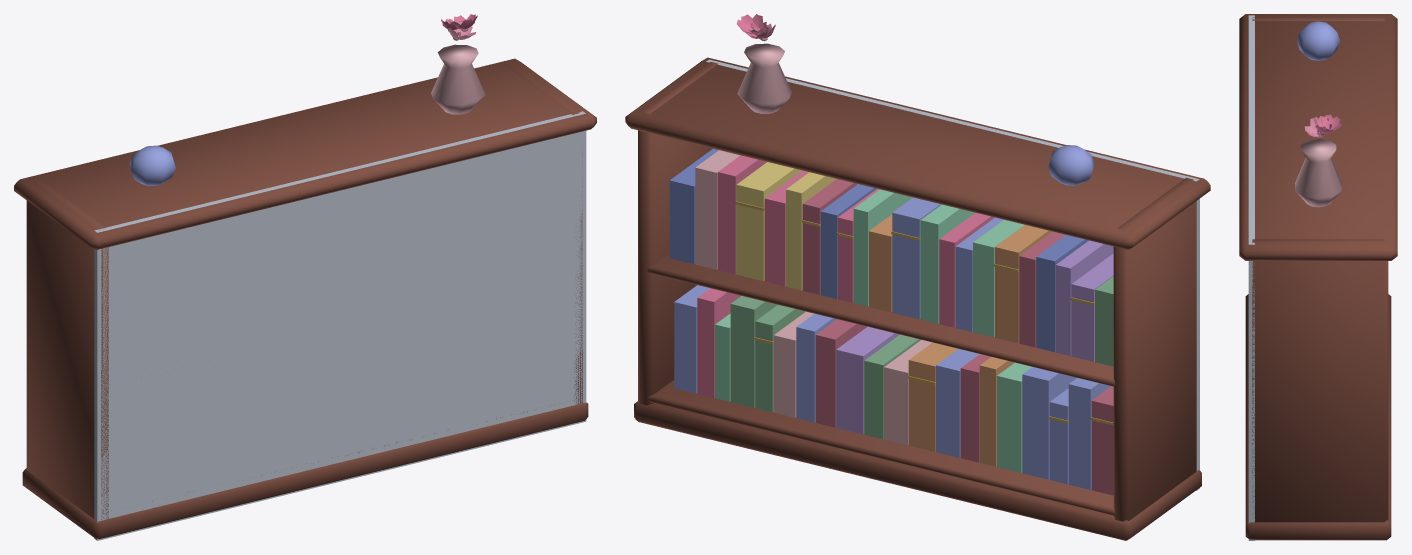
The model's file is bookcase_low.glb.
The picture shows the model from 3 angles, left to right: view 1: azimuth 30°, elevation 25°; view 2: azimuth 150°, elevation 25°; view 3: azimuth 270°, elevation 25°; orthographic projection. The views are drawn at different scales.
Visible parts, largest first — view 1: bookcase_low; view 2: bookcase_low; view 3: bookcase_low.
Part boxes in pixels (<box>): bookcase_low: <box>14,14,596,540</box>; bookcase_low: <box>625,14,1210,540</box>; bookcase_low: <box>1239,14,1397,540</box>.
Size of what is drawn, in the model's own units: 1.6 by 1.2 by 0.45.
